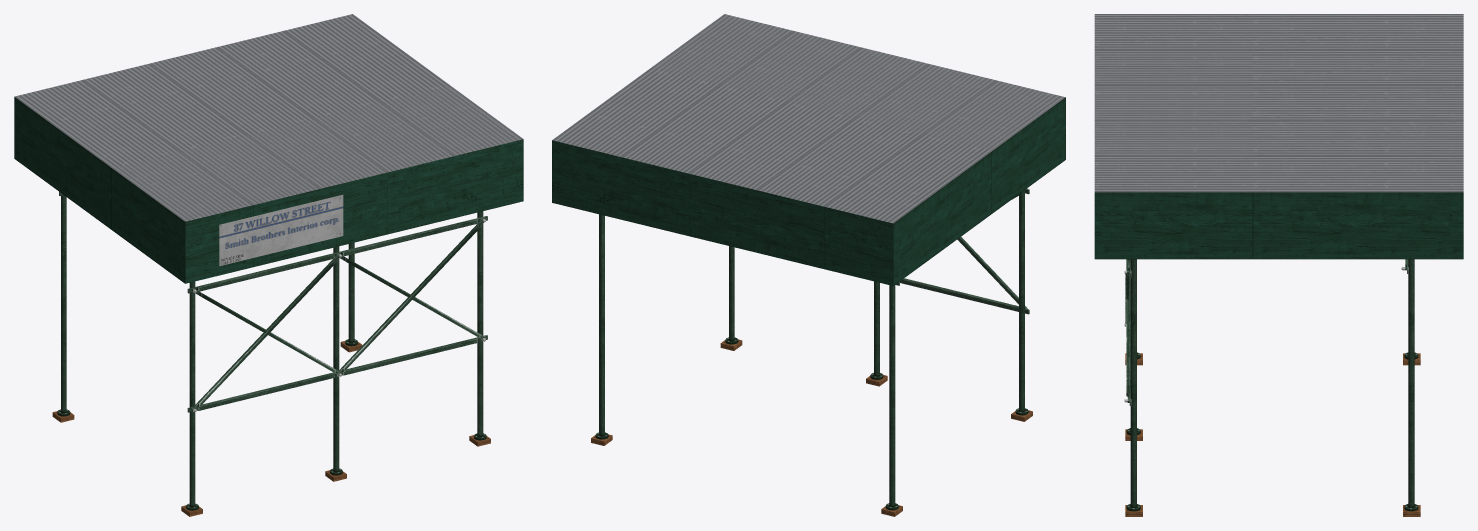
The model's file is Scaffolding_01.fbx.
3 views of the same model, side by side, from view 1: azimuth 30°, elevation 25°; view 2: azimuth 150°, elevation 25°; view 3: azimuth 270°, elevation 25° (orthographic). The views are drawn at different scales.
Parts seen in each view (by area): view 1: Scaffolding_01_LOD0; view 2: Scaffolding_01_LOD0; view 3: Scaffolding_01_LOD0.
Part boxes in pixels (x1=…): Scaffolding_01_LOD0: x1=14, y1=14, x2=523, y2=516; Scaffolding_01_LOD0: x1=552, y1=14, x2=1065, y2=516; Scaffolding_01_LOD0: x1=1094, y1=14, x2=1463, y2=516.
Size of what is drawn, in the model's own units: 400 by 350 by 350.
